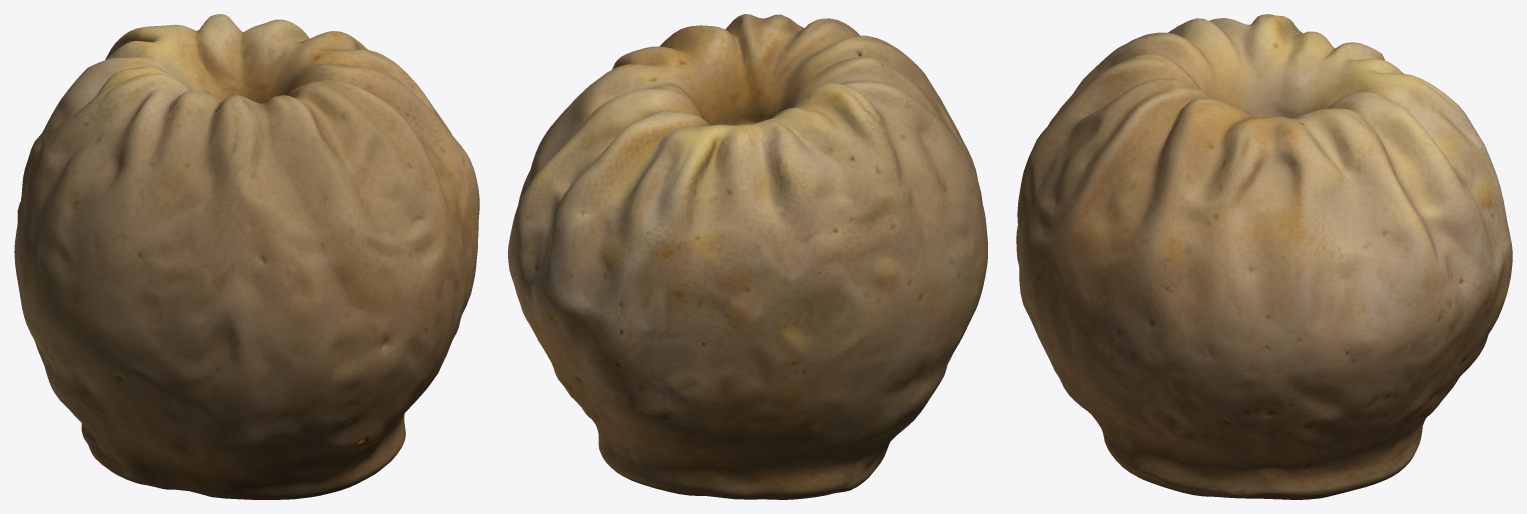
The picture shows the model from 3 angles, left to right: view 1: azimuth 30°, elevation 25°; view 2: azimuth 150°, elevation 25°; view 3: azimuth 270°, elevation 25°; orthographic projection. The views are drawn at different scales.
Visible parts, largest first — view 1: world; view 2: world; view 3: world.
Part boxes in pixels (x1,y1,x2,y2): world: [14, 14, 479, 499]; world: [508, 14, 987, 499]; world: [1016, 14, 1512, 499].
Size of the model in its own units: 0.0425 by 0.0389 by 0.045.
1 material, 1 textured.
